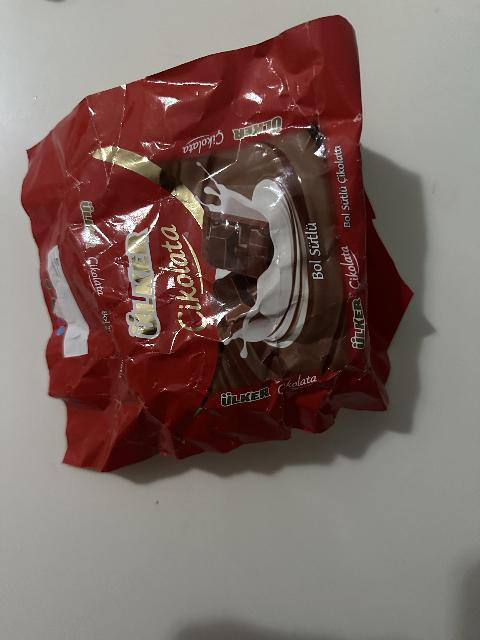Plastik: (33, 0, 425, 479)
